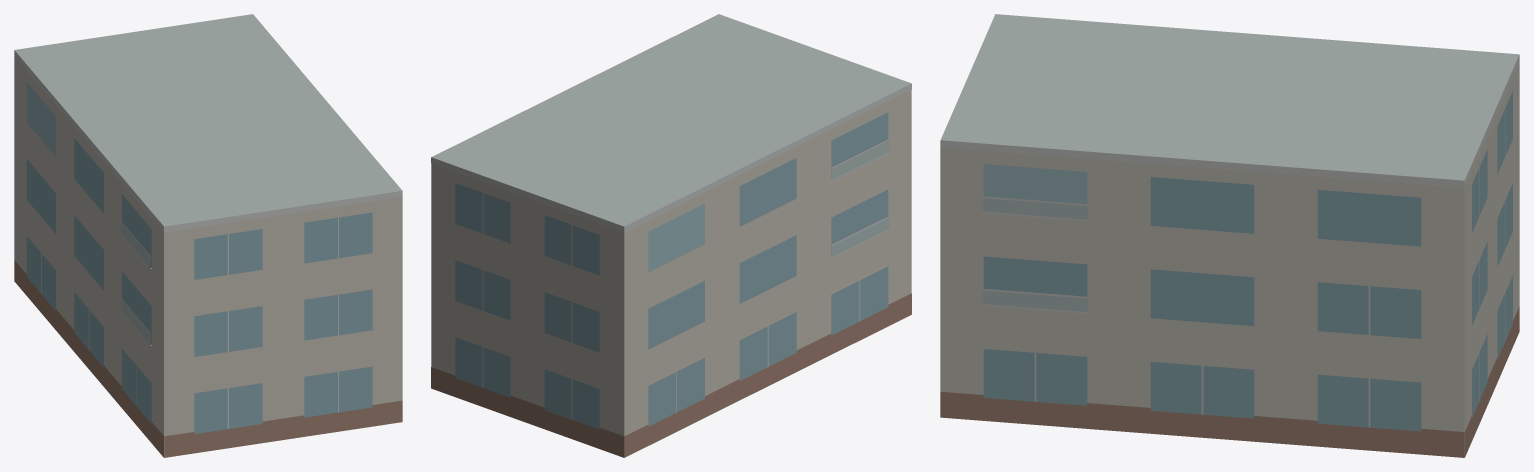
The model's file is survey-upis-32797814.glb.
3 views of the same model, side by side, from view 1: azimuth 30°, elevation 25°; view 2: azimuth 150°, elevation 25°; view 3: azimuth 270°, elevation 25° (orthographic). The views are drawn at different scales.
Parts seen in each view (by area): view 1: survey-upis-32797814.tmp; view 2: survey-upis-32797814.tmp; view 3: survey-upis-32797814.tmp.
Part boxes in pixels (bbox=[...]): survey-upis-32797814.tmp: bbox=[14, 14, 402, 457]; survey-upis-32797814.tmp: bbox=[431, 14, 911, 457]; survey-upis-32797814.tmp: bbox=[940, 14, 1519, 457].
Bounding box in the file's own units: 11.8 × 9.15 × 17.33.
